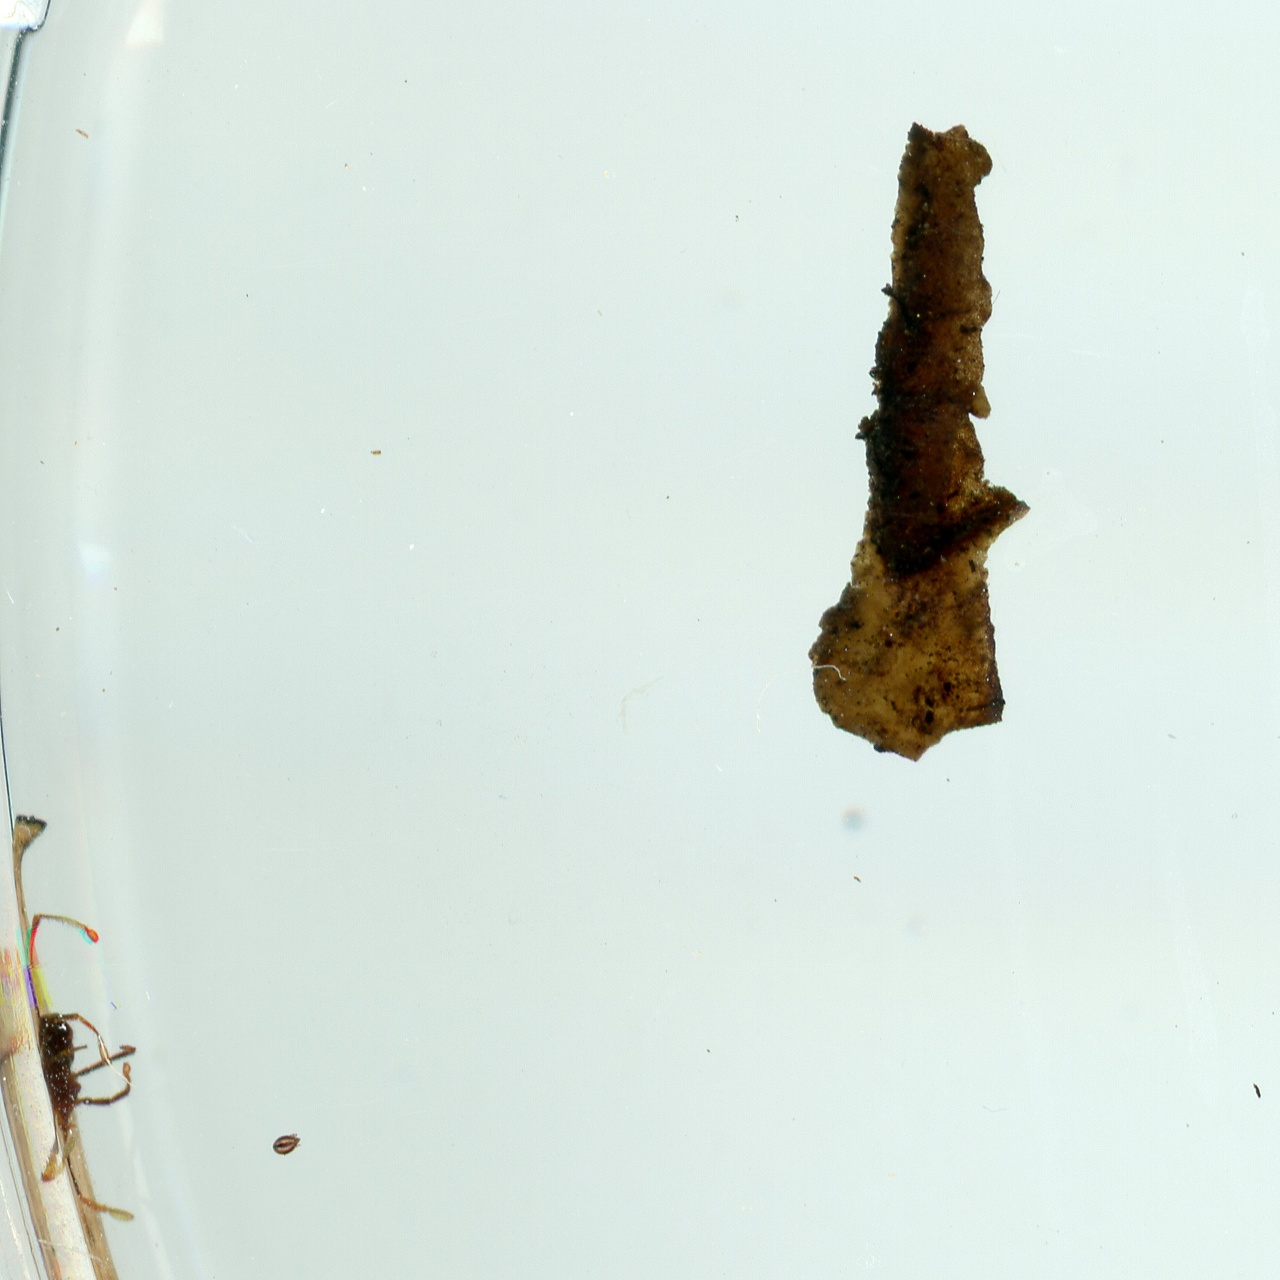arthropod: (26, 901, 148, 1226), (270, 1130, 304, 1157)
